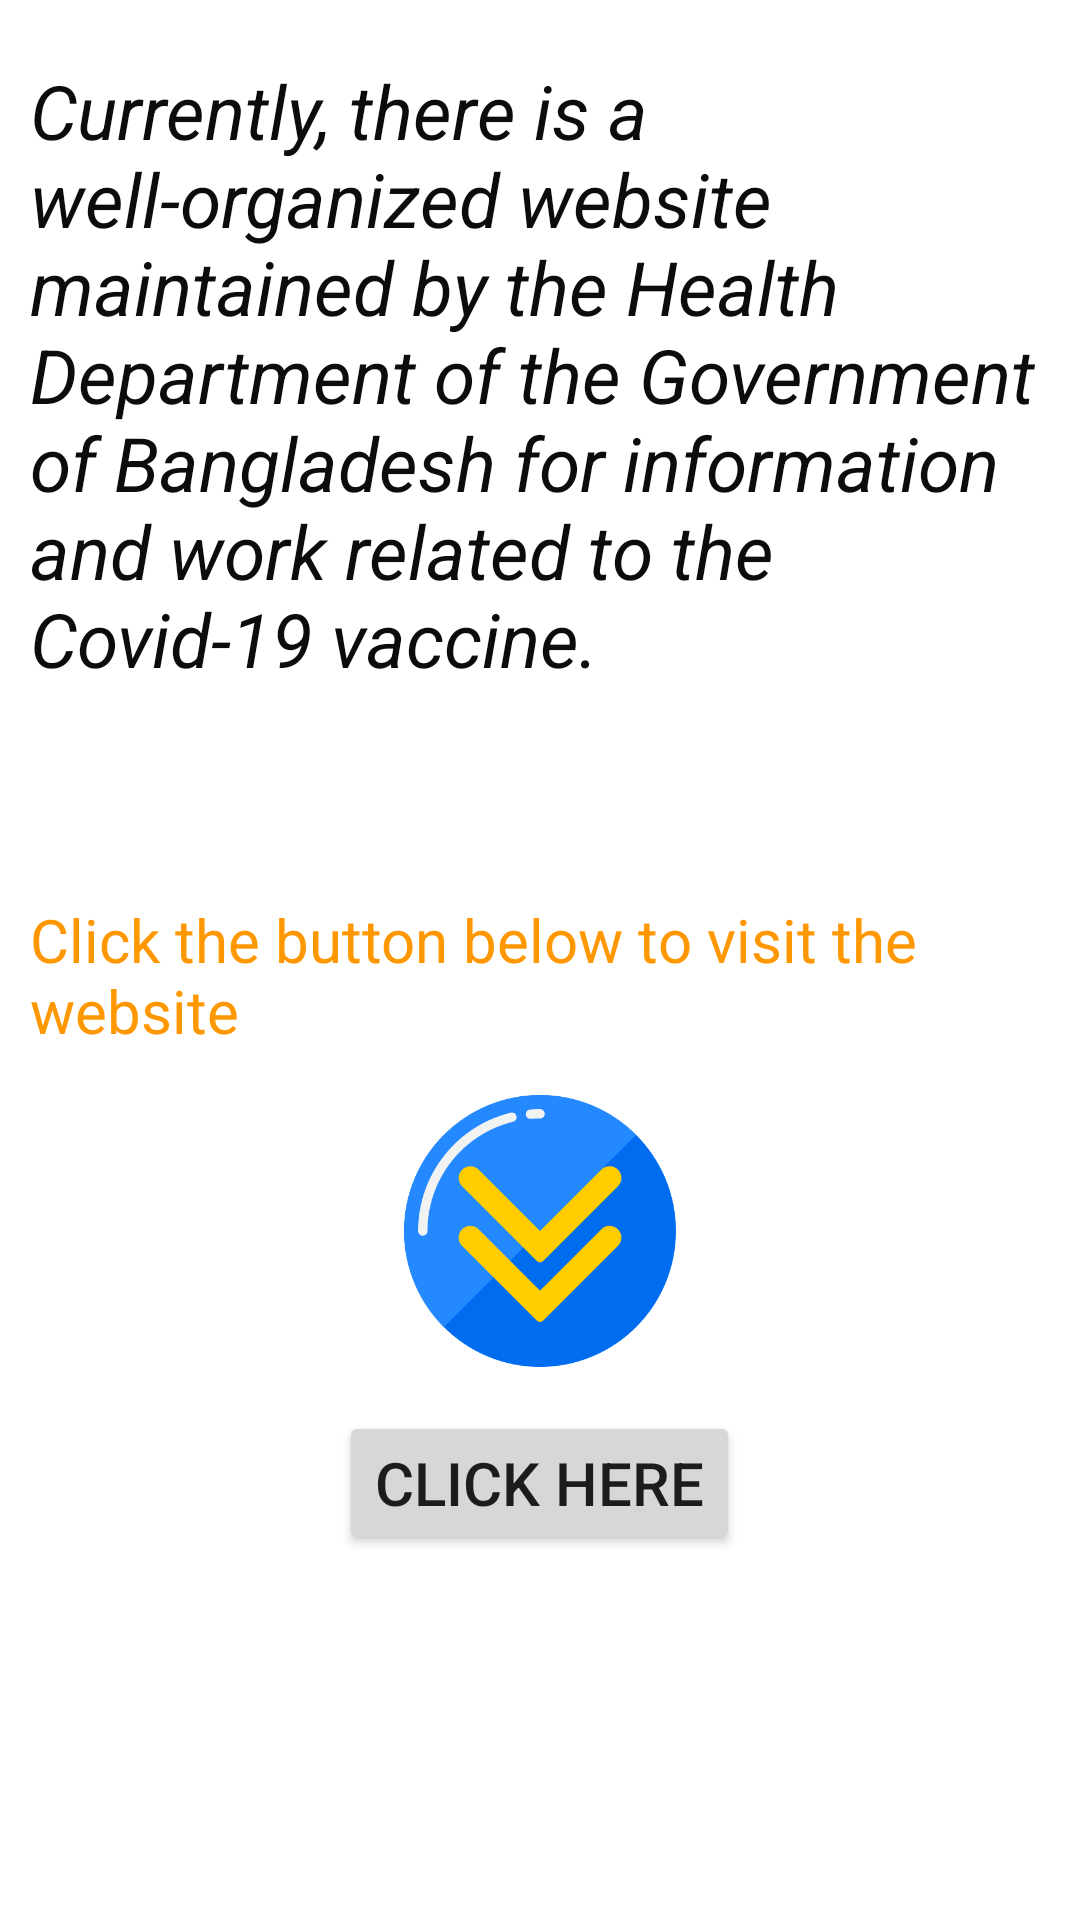

Locate icon controls on the screen. Image size 1080x1920, boxes as detection(x1, y1, x2, y2).
down arrow: detection(404, 1095, 676, 1367)
